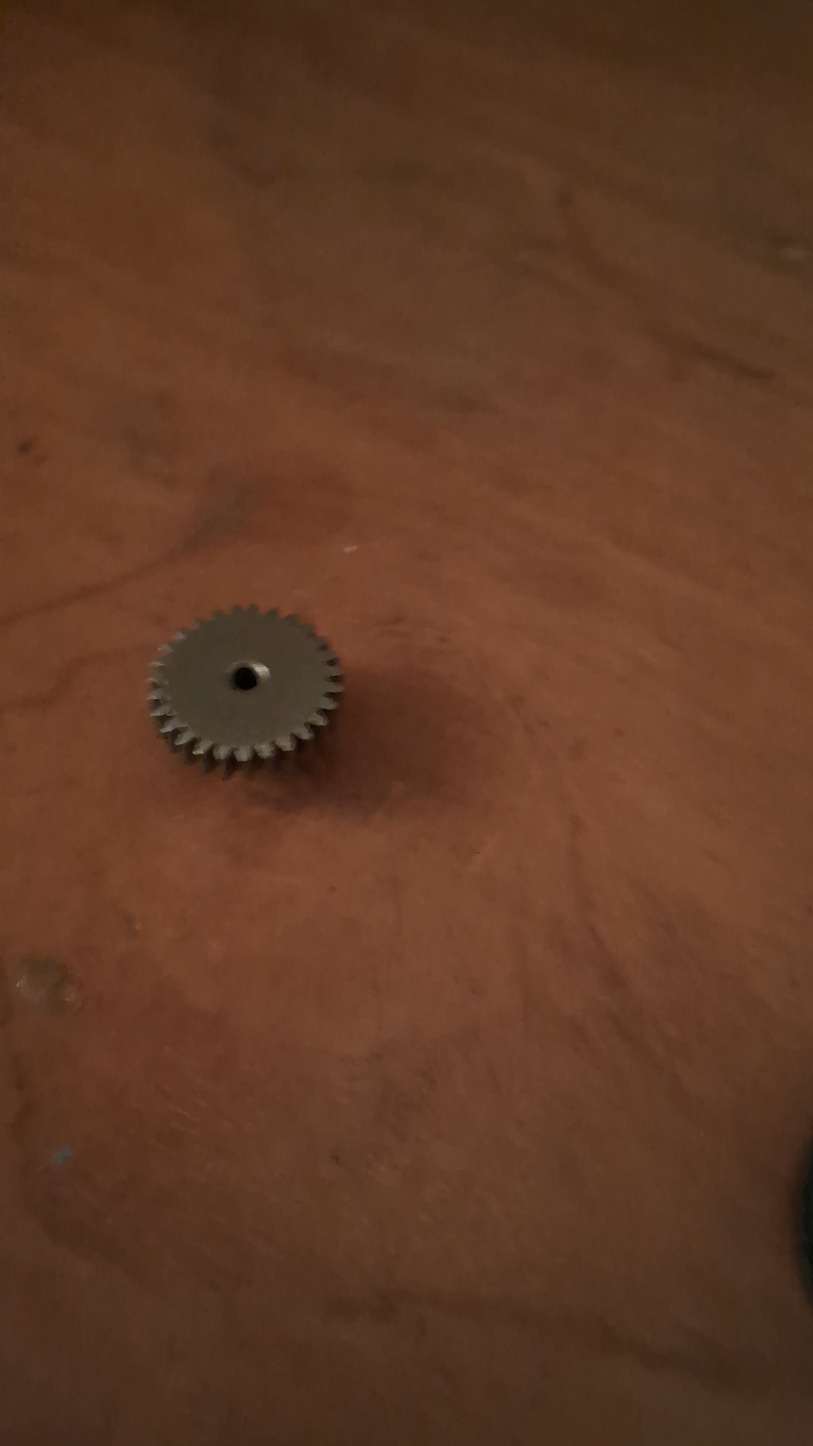spur gear: (149, 606, 341, 766)
